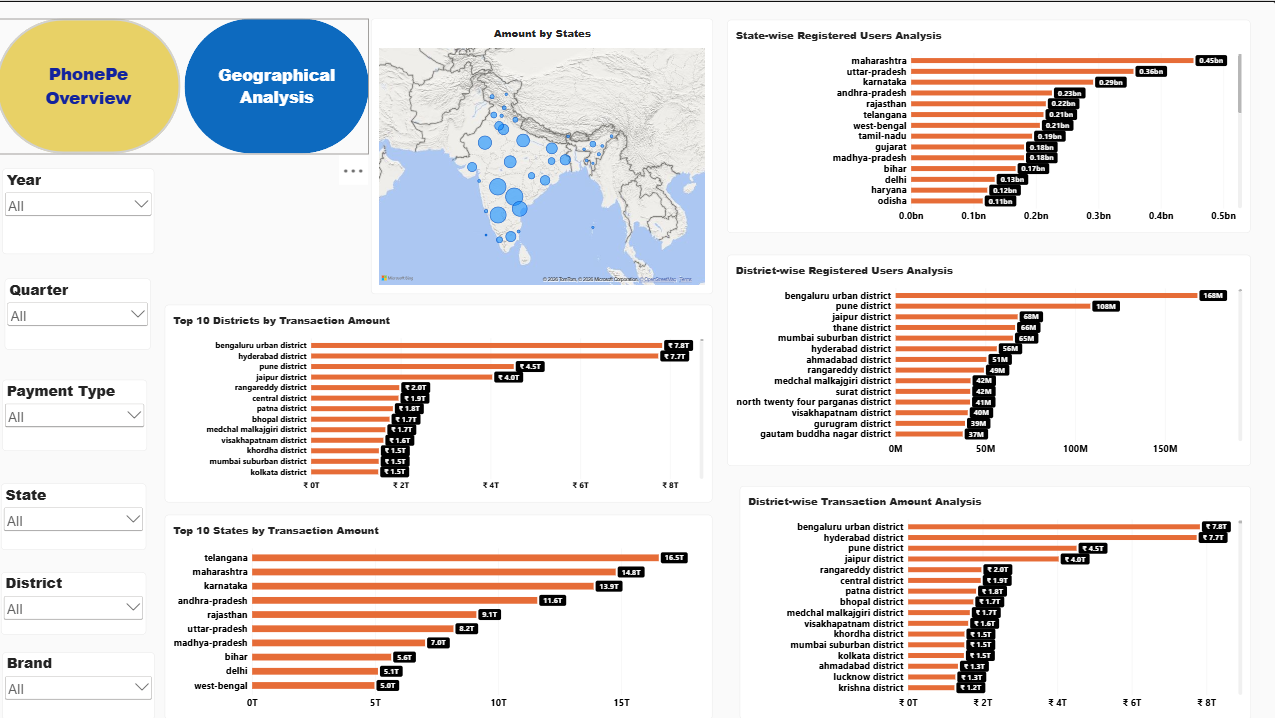

The page's visual inventory and layout, read from the dashboard file:
{"tool":"powerbi","page":{"name":"Geographical Analysis","canvas":[2560,1440],"ordinal":1},"visuals":[{"type":"clusteredBarChart","title":"District-wise Transaction Amount Analysis","fields":{"Category":["map_transaction.district"],"Y":["Sum(map_transaction.amount)"]},"box":[1487.5,970,1022.5,467.5],"z":1},{"type":"clusteredBarChart","title":"District-wise Registered Users Analysis","fields":{"Category":["map_user.district"],"Y":["Sum(map_user.registered_user_counts)"]},"box":[1462.5,507.5,1047.5,422.5],"z":2},{"type":"clusteredBarChart","title":"Top 10 Districts by Transaction Amount","fields":{"Category":["map_transaction.district"],"Y":["Sum(map_transaction.amount)"]},"box":[337.5,607.5,1095,395],"z":3},{"type":"clusteredBarChart","title":"State-wise Registered Users Analysis","fields":{"Category":["aggregated_user.states"],"Y":["Sum(aggregated_user.user_counts)"]},"box":[1463.3,36.7,1046.7,426.7],"z":4},{"type":"slicer","fields":{"Values":["Calendar.Year"]},"box":[12.1,335.4,304,171.3],"z":5},{"type":"slicer","fields":{"Values":["Calendar.quarter"]},"box":[16.9,555,292.1,142.1],"z":6},{"type":"clusteredBarChart","title":"Top 10 States by Transaction Amount","fields":{"Category":["aggregated_transaction.states"],"Y":["Sum(aggregated_transaction.amount)"]},"box":[338,1028,1095,410],"z":7},{"type":"slicer","fields":{"Values":["aggregated_transaction.trans_type"]},"box":[12.1,757.6,289.5,142.1],"z":8},{"type":"slicer","fields":{"Values":["DimState.State"]},"box":[9.7,965.2,290,132.5],"z":9},{"type":"slicer","fields":{"Values":["DimDistrict.district"]},"box":[9.7,1141.3,290,125],"z":10},{"type":"slicer","fields":{"Values":["aggregated_user.brand"]},"box":[12.5,1302.5,305,135],"z":11},{"type":"pageNavigator","box":[0,36.2,748,270.2],"z":12},{"type":"map","title":"Amount by States","fields":{"Category":["map_transaction.states"],"Size":["Sum(map_transaction.amount)"]},"box":[748.8,34.9,683.7,551.2],"z":13}]}

Visuals, with their boxes in screenshot pixels (x1, y1, x2, y2), scaled from the page's 2560x1440 canvas onto the 1275x718 screenshot:
"District-wise Transaction Amount Analysis" clusteredBarChart: bbox=[741, 484, 1250, 717]
"District-wise Registered Users Analysis" clusteredBarChart: bbox=[728, 253, 1250, 464]
"Top 10 Districts by Transaction Amount" clusteredBarChart: bbox=[168, 303, 713, 500]
"State-wise Registered Users Analysis" clusteredBarChart: bbox=[729, 18, 1250, 231]
slicer - Calendar.Year: bbox=[6, 167, 157, 253]
slicer - Calendar.quarter: bbox=[8, 277, 154, 348]
"Top 10 States by Transaction Amount" clusteredBarChart: bbox=[168, 513, 714, 717]
slicer - aggregated_transaction.trans_type: bbox=[6, 378, 150, 449]
slicer - DimState.State: bbox=[5, 481, 149, 547]
slicer - DimDistrict.district: bbox=[5, 569, 149, 631]
slicer - aggregated_user.brand: bbox=[6, 649, 158, 717]
pageNavigator: bbox=[0, 18, 373, 153]
"Amount by States" map: bbox=[373, 17, 713, 292]
